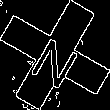N_NE: (25, 23, 85, 87)
